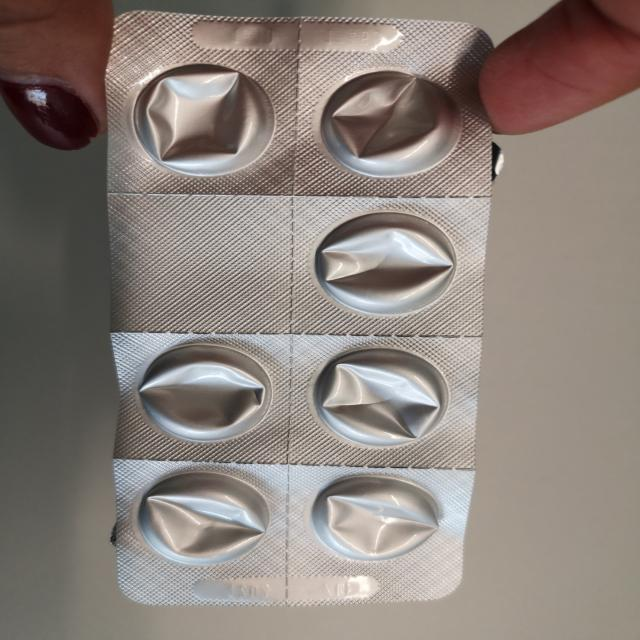Empty: (130, 62, 280, 180), (313, 64, 462, 182), (312, 208, 459, 321), (308, 344, 449, 450), (134, 339, 274, 443), (132, 467, 273, 568), (307, 471, 446, 564)
